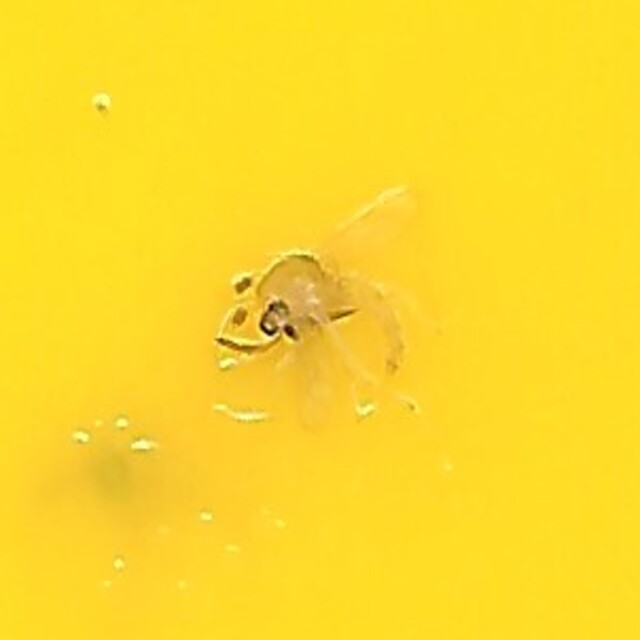Nematocera: (212, 245, 428, 395)
